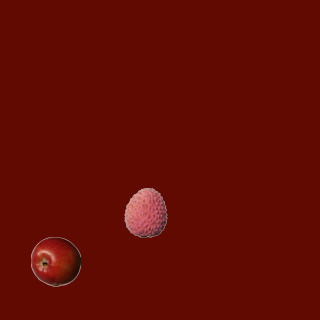Apple Braeburn: (30, 236, 80, 286)
Lychee: (120, 187, 170, 237)
